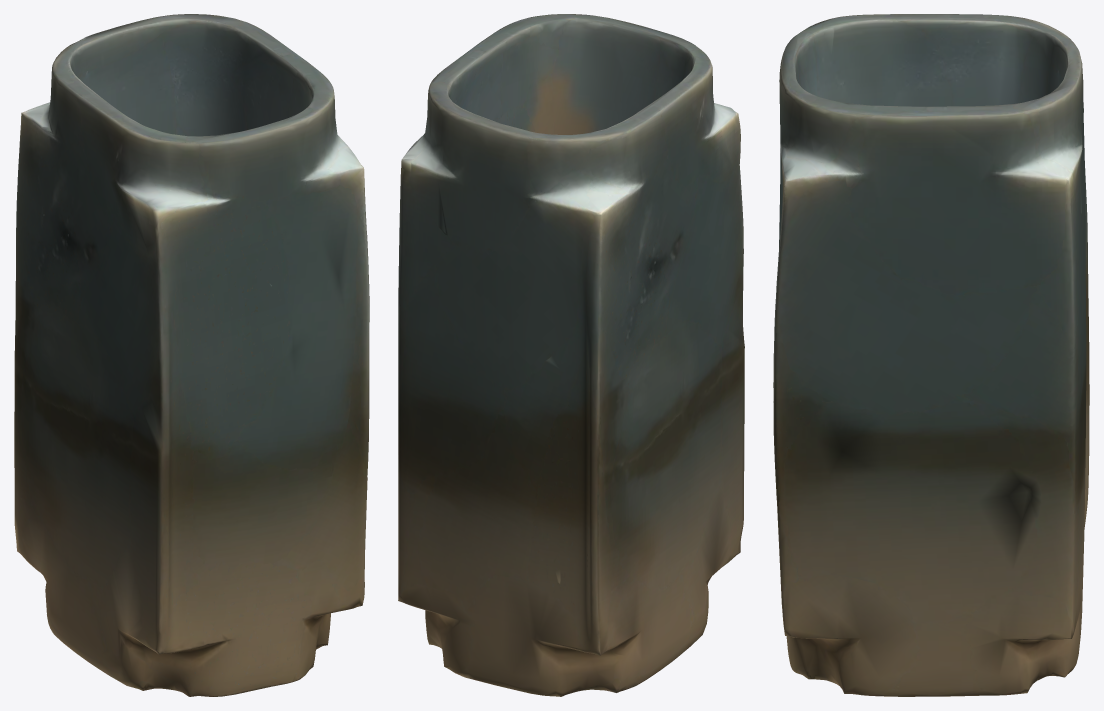
Rendered from qijia.glb.
3 renders of one model, left to right at view 1: azimuth 30°, elevation 25°; view 2: azimuth 150°, elevation 25°; view 3: azimuth 270°, elevation 25°, orthographic. The views are drawn at different scales.
Parts seen in each view (by area): view 1: node_0; view 2: node_0; view 3: node_0.
Part boxes in pixels (x1,y1,x2,y2): node_0: (14,14,369,696); node_0: (398,14,744,696); node_0: (773,14,1089,696).
Bounding box in the file's own units: 0.4342 × 1.09 × 0.5285.
1 material, 1 textured.
